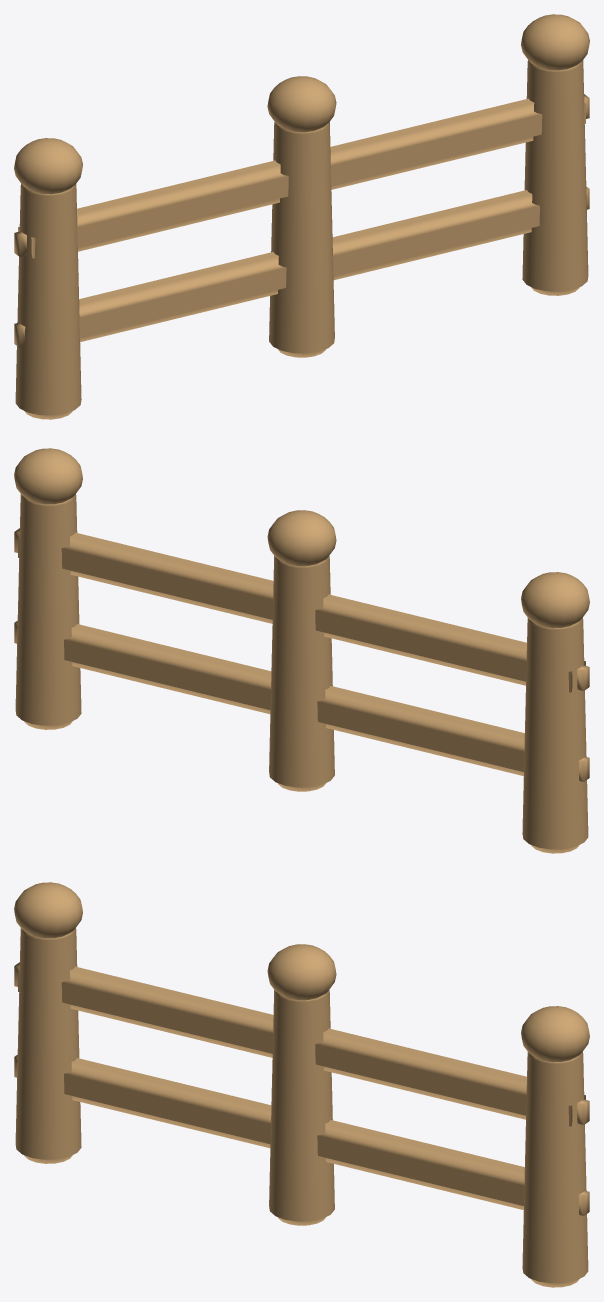
The model's file is toy_fence_wood.glb.
3 views of the same model, one above another, from view 1: azimuth 30°, elevation 25°; view 2: azimuth 150°, elevation 25°; view 3: azimuth 330°, elevation 25° (orthographic).
Visible parts, largest first — view 1: Rail_0.68, Rail_0.32, Post_-1.05, Post_0.0, Post_1.05, Ball_1.05, Ball_0.0, Ball_-1.05; view 2: Rail_0.68, Rail_0.32, Post_-1.05, Post_0.0, Post_1.05, Ball_1.05, Ball_0.0, Ball_-1.05; view 3: Rail_0.68, Rail_0.32, Post_1.05, Post_0.0, Post_-1.05, Ball_-1.05, Ball_0.0, Ball_1.05.
Boxes of the visible parts, x1=… form: Rail_0.68: x1=14, y1=94, x2=589, y2=258; Rail_0.32: x1=14, y1=187, x2=589, y2=347; Post_-1.05: x1=15, y1=183, x2=81, y2=419; Post_0.0: x1=269, y1=122, x2=334, y2=357; Post_1.05: x1=522, y1=60, x2=588, y2=295; Ball_1.05: x1=521, y1=14, x2=589, y2=70; Ball_0.0: x1=267, y1=76, x2=336, y2=132; Ball_-1.05: x1=14, y1=138, x2=82, y2=194; Rail_0.68: x1=14, y1=528, x2=589, y2=692; Rail_0.32: x1=14, y1=621, x2=589, y2=781; Post_-1.05: x1=522, y1=617, x2=588, y2=853; Post_0.0: x1=269, y1=556, x2=334, y2=791; Post_1.05: x1=15, y1=494, x2=81, y2=729; Ball_1.05: x1=14, y1=448, x2=82, y2=504; Ball_0.0: x1=267, y1=510, x2=336, y2=566; Ball_-1.05: x1=521, y1=572, x2=589, y2=628; Rail_0.68: x1=14, y1=962, x2=589, y2=1126; Rail_0.32: x1=14, y1=1055, x2=589, y2=1215; Post_1.05: x1=522, y1=1051, x2=588, y2=1287; Post_0.0: x1=269, y1=990, x2=334, y2=1225; Post_-1.05: x1=15, y1=928, x2=81, y2=1163; Ball_-1.05: x1=14, y1=882, x2=82, y2=938; Ball_0.0: x1=267, y1=944, x2=336, y2=1000; Ball_1.05: x1=521, y1=1006, x2=589, y2=1062.
Bounding box in the file's own units: 2.36 × 1.06 × 0.25.
